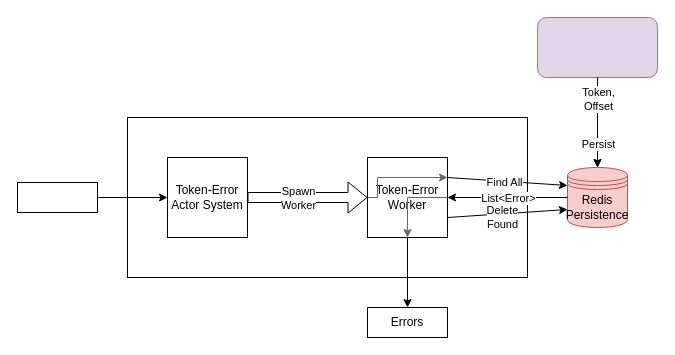
The diagram is 675 pixels wide and 355 high, and some of its shapes have lost their labels. The centre of each missing label's shape, as x and y in pixels:
Read from Kafka "error" topic: point (597, 47)
Token: point (57, 197)
